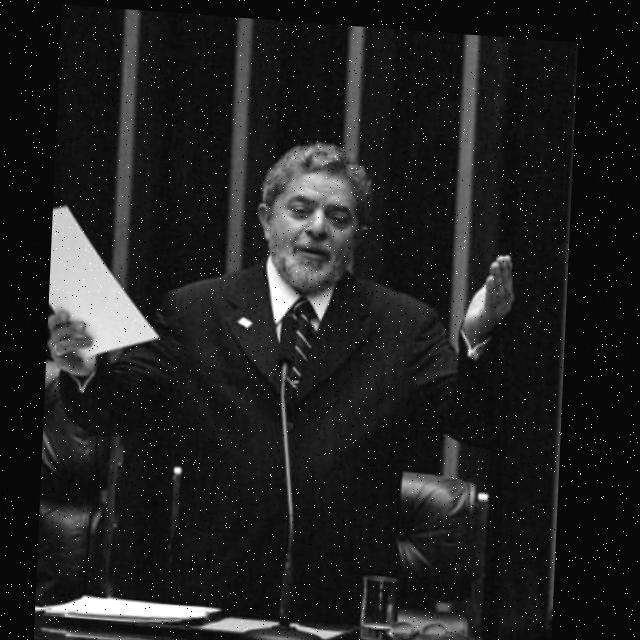face: (236, 146, 380, 290)
